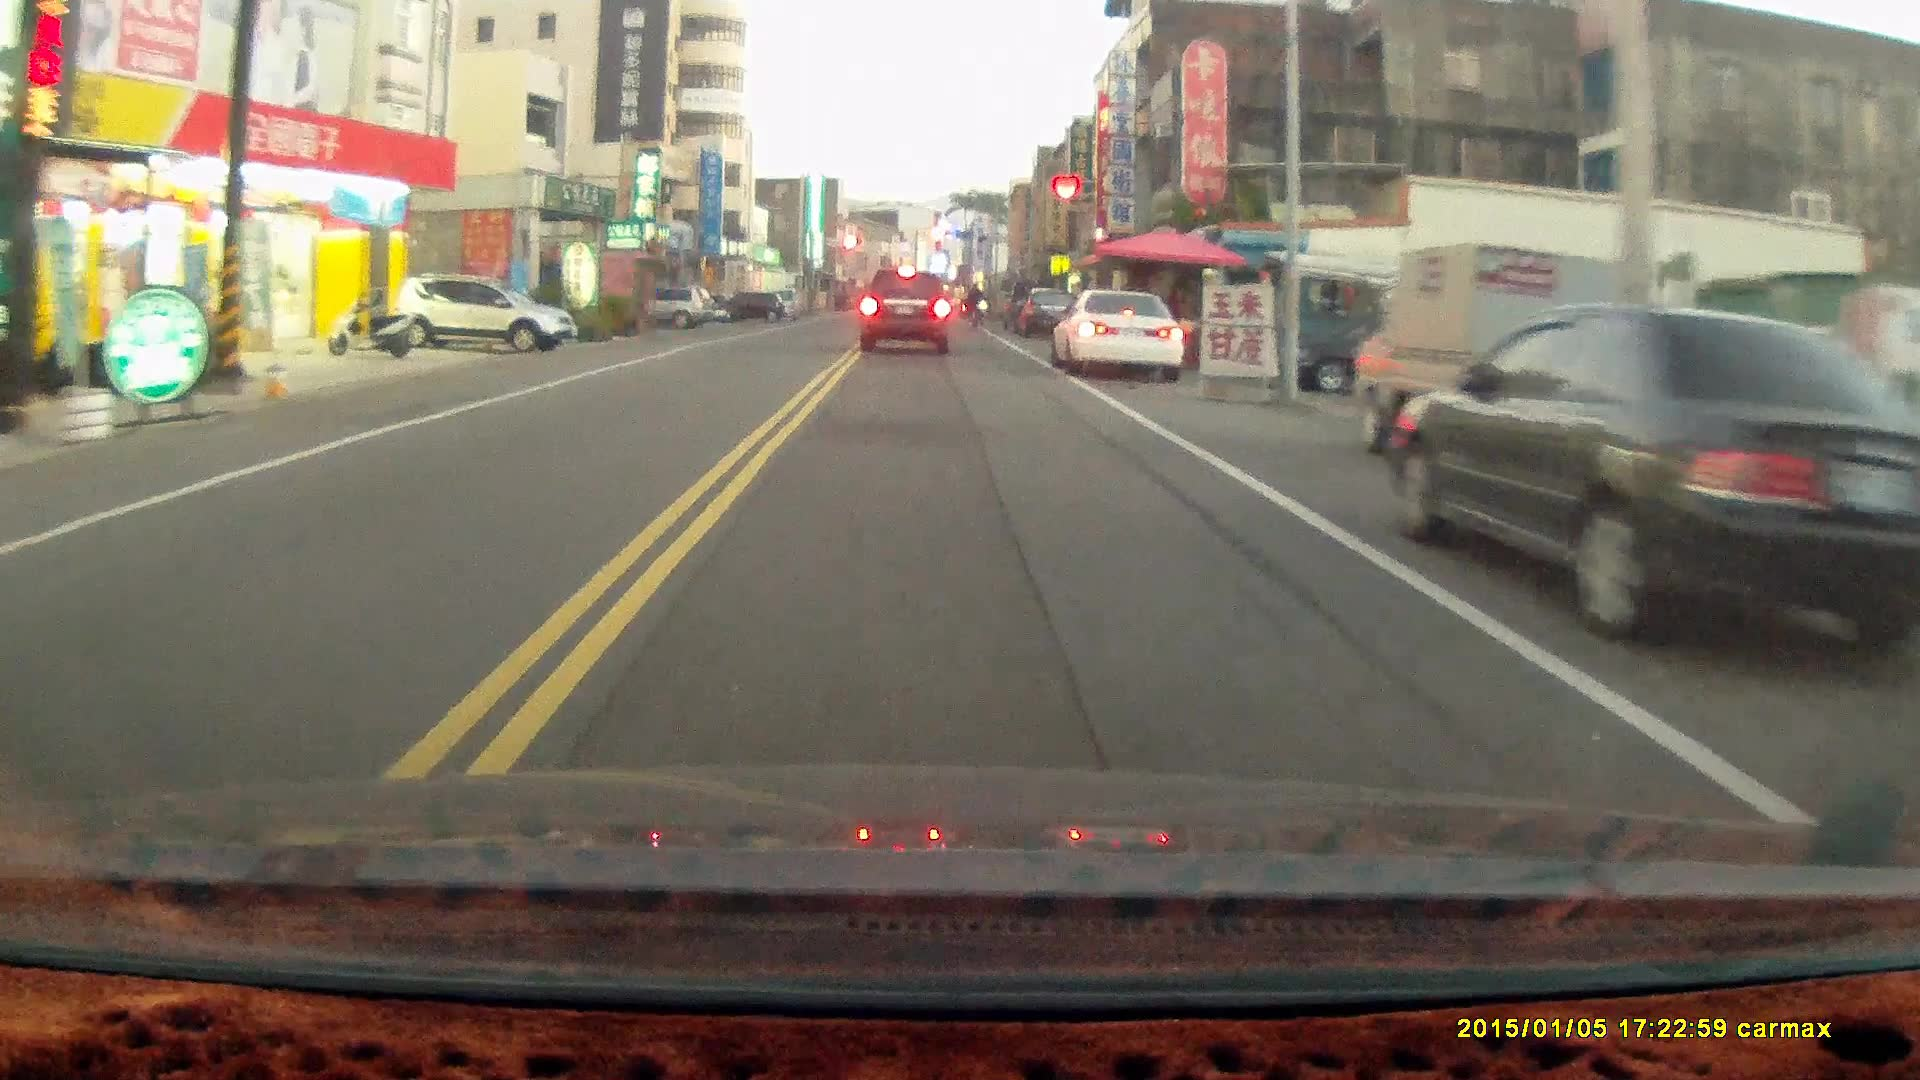vehicle: (1383, 309, 1920, 665), (1360, 249, 1627, 436), (386, 277, 572, 359), (1054, 287, 1185, 385), (857, 266, 952, 357)
